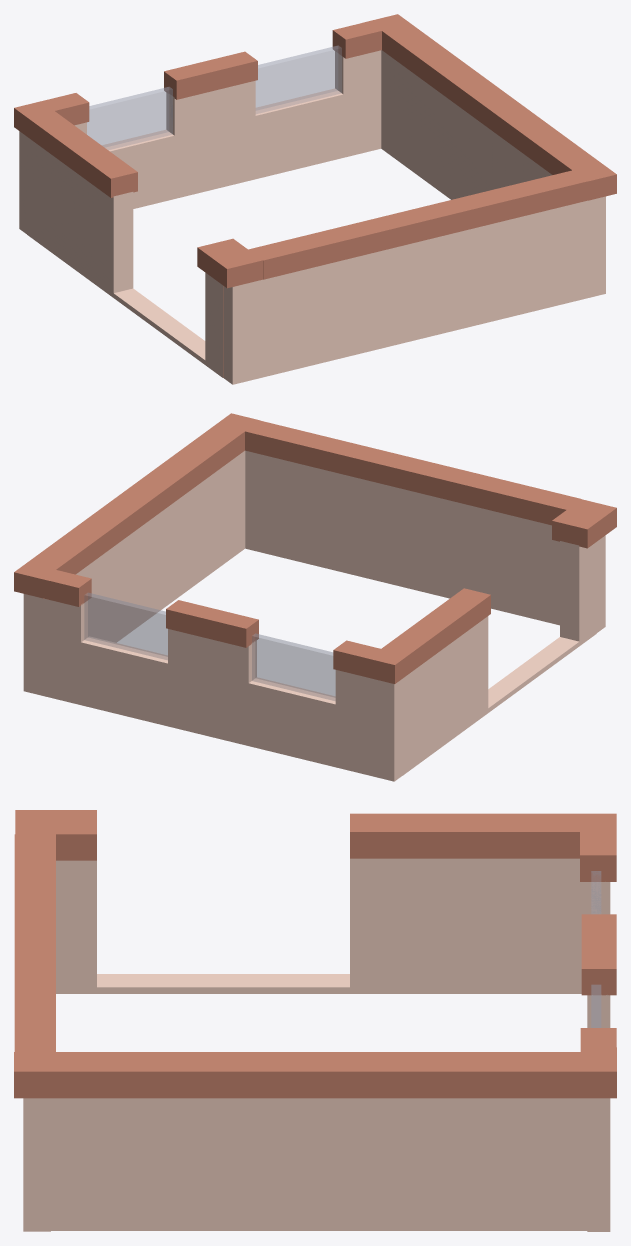
File: M6BO_Model_Redo_02.fbx
3 renders of one model, top to bottom at view 1: azimuth 30°, elevation 25°; view 2: azimuth 150°, elevation 25°; view 3: azimuth 270°, elevation 25°, orthographic. The views are drawn at different scales.
Parts seen in each view (by area): view 1: Muur_Kleur; view 2: Muur_Kleur; view 3: Muur_Kleur.
Part boxes in pixels (<box>): Muur_Kleur: <box>14,14,616,384</box>; Muur_Kleur: <box>14,413,616,781</box>; Muur_Kleur: <box>14,810,616,1231</box>.
Bounding box in the file's own units: 889 × 262 × 866.
